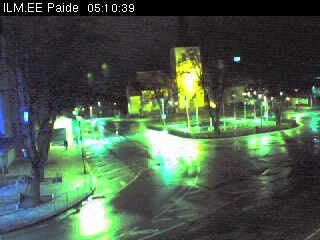person: (63, 138, 69, 150)
